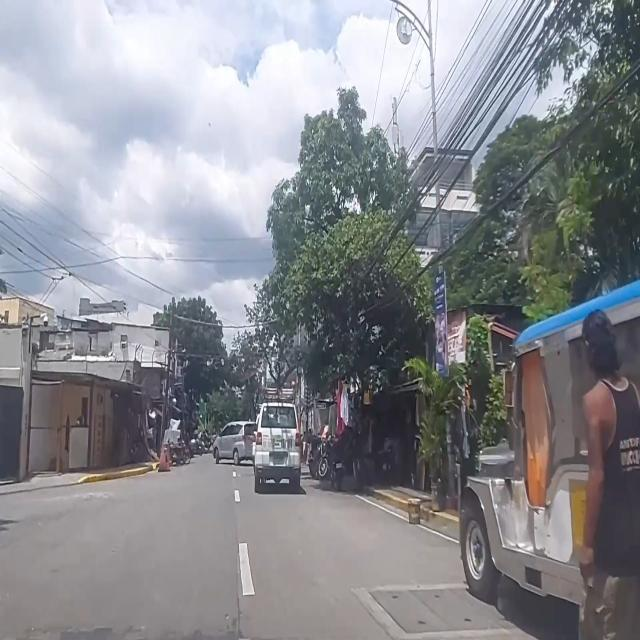car: (254, 400, 300, 492), (212, 418, 256, 464)
jeepney: (461, 277, 640, 640)
motorcycle: (329, 436, 344, 492), (308, 436, 328, 476)
